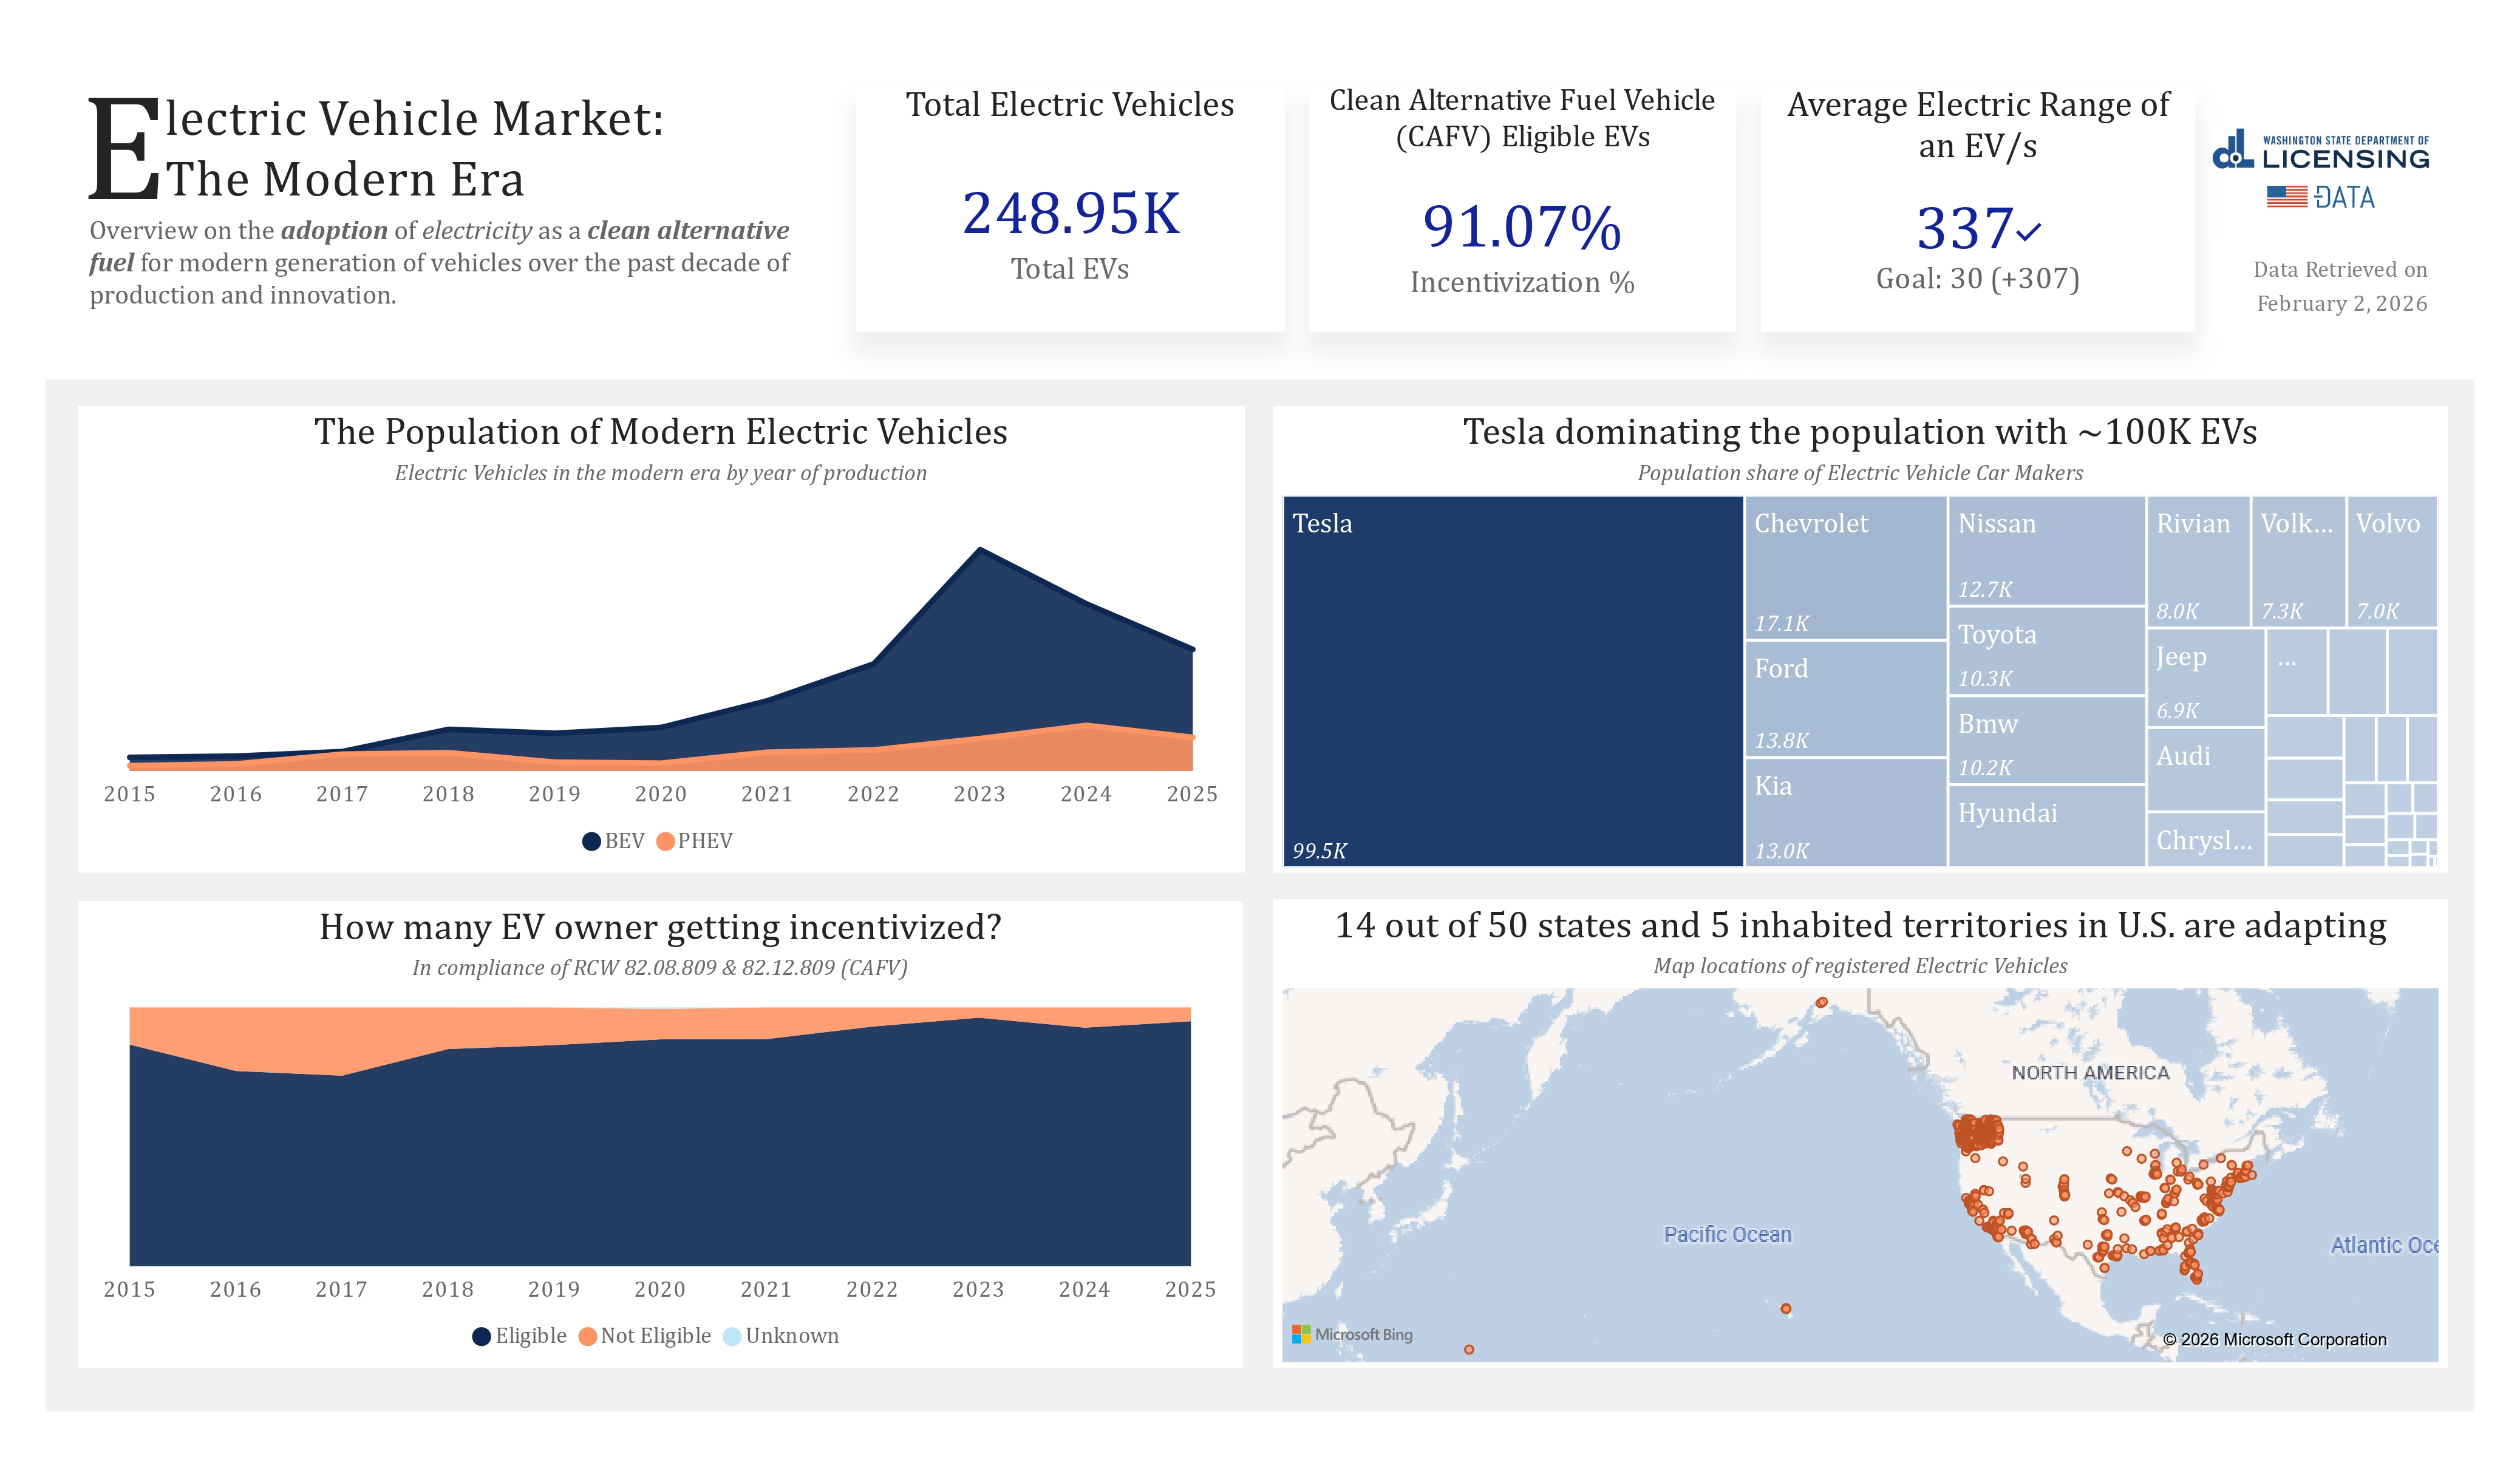

Layout of this report page (visuals, bound fields, positions):
{"tool":"powerbi","page":{"name":"Executive Overview","canvas":[1280,720],"ordinal":0},"visuals":[{"type":"card","title":"Total Electric Vehicles","fields":{"Values":["vw_EV_PowerBI_Ready.Total EVs"]},"box":[436,34,226,118],"z":0},{"type":"card","title":"Clean Alternative Fuel Vehicle (CAFV) Eligible EVs","fields":{"Values":["vw_EV_PowerBI_Ready.Incentivization %"]},"box":[675,34,226,118],"z":1000},{"type":"card","title":"Average Electric Range of an EV/s","fields":{"Values":["vw_EV_PowerBI_Ready.Ave Electric Range"]},"box":[914,34,228,118],"z":2000},{"type":"slicer","title":"Sort by type","fields":{"Values":["vw_EV_PowerBI_Ready.ev_type"]},"box":[1151.2,95,115,56.2],"z":3000},{"type":"columnChart","title":"The Population of Modern Electric Vehicles","fields":{"Category":["vw_EV_PowerBI_Ready.year_model.Variation.Date Hierarchy.Year"],"Y":["vw_EV_PowerBI_Ready.Total EVs"]},"box":[12.5,190,408.8,246.2],"z":4000},{"type":"areaChart","fields":{"Category":["vw_EV_PowerBI_Ready.year_model"],"Y":["vw_EV_PowerBI_Ready.Ave Electric Range"]},"box":[436.2,190,421.2,246.2],"z":5000},{"type":"treemap","fields":{"Group":["vw_EV_PowerBI_Ready.maker"],"Values":["vw_EV_PowerBI_Ready.Total EVs"]},"box":[871.2,190,395,492.5],"z":6000},{"type":"donutChart","title":"How many EV owner getting incentivized?","fields":{"Category":["vw_EV_PowerBI_Ready.validated_eligibility"],"Y":["CountNonNull(vw_EV_PowerBI_Ready.validated_eligibility)"]},"box":[12.5,436.2,408.8,246.2],"z":7000},{"type":"textbox","box":[17.5,33.8,403.8,117.5],"z":8000},{"type":"textbox","box":[6.6,21.1,78.2,132.7],"z":9000},{"type":"map","fields":{"X":["vw_EV_PowerBI_Ready.longitude"],"Y":["vw_EV_PowerBI_Ready.latitude"]},"box":[436.2,436.2,421.2,246.2],"z":10000},{"type":"shape","box":[0,165,1280,7.5],"z":11000},{"type":"shape","box":[0,14.3,1280,7.1],"z":12000},{"type":"shape","box":[0,697.1,1280,8.6],"z":13000},{"type":"image","box":[1150,39.4,116.1,30.6],"z":14000},{"type":"image","box":[1180,70,57.8,17.2],"z":15000}]}

Visuals, with their boxes on the page's 1280x720 design canvas (x1, y1, x2, y2). These are canvas units, not pixel positions in the 2520x1457 screenshot, which may show the page scaled, cropped or inside an application window:
"Total Electric Vehicles" card: {"x1": 436, "y1": 34, "x2": 662, "y2": 152}
"Clean Alternative Fuel Vehicle (CAFV) Eligible EVs" card: {"x1": 675, "y1": 34, "x2": 901, "y2": 152}
"Average Electric Range of an EV/s" card: {"x1": 914, "y1": 34, "x2": 1142, "y2": 152}
"Sort by type" slicer: {"x1": 1151, "y1": 95, "x2": 1266, "y2": 151}
"The Population of Modern Electric Vehicles" columnChart: {"x1": 12, "y1": 190, "x2": 421, "y2": 436}
areaChart - vw_EV_PowerBI_Ready.year_model x vw_EV_PowerBI_Ready.Ave Electric Range: {"x1": 436, "y1": 190, "x2": 857, "y2": 436}
treemap - vw_EV_PowerBI_Ready.maker x vw_EV_PowerBI_Ready.Total EVs: {"x1": 871, "y1": 190, "x2": 1266, "y2": 682}
"How many EV owner getting incentivized?" donutChart: {"x1": 12, "y1": 436, "x2": 421, "y2": 682}
textbox: {"x1": 18, "y1": 34, "x2": 421, "y2": 151}
textbox: {"x1": 7, "y1": 21, "x2": 85, "y2": 154}
map - vw_EV_PowerBI_Ready.longitude x vw_EV_PowerBI_Ready.latitude: {"x1": 436, "y1": 436, "x2": 857, "y2": 682}
shape: {"x1": 0, "y1": 165, "x2": 1280, "y2": 172}
shape: {"x1": 0, "y1": 14, "x2": 1280, "y2": 21}
shape: {"x1": 0, "y1": 697, "x2": 1280, "y2": 706}
image: {"x1": 1150, "y1": 39, "x2": 1266, "y2": 70}
image: {"x1": 1180, "y1": 70, "x2": 1238, "y2": 87}
